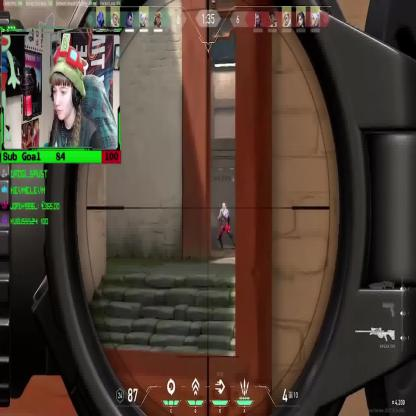enemy: (215, 204, 236, 250)
enemy_head: (222, 202, 226, 211)
